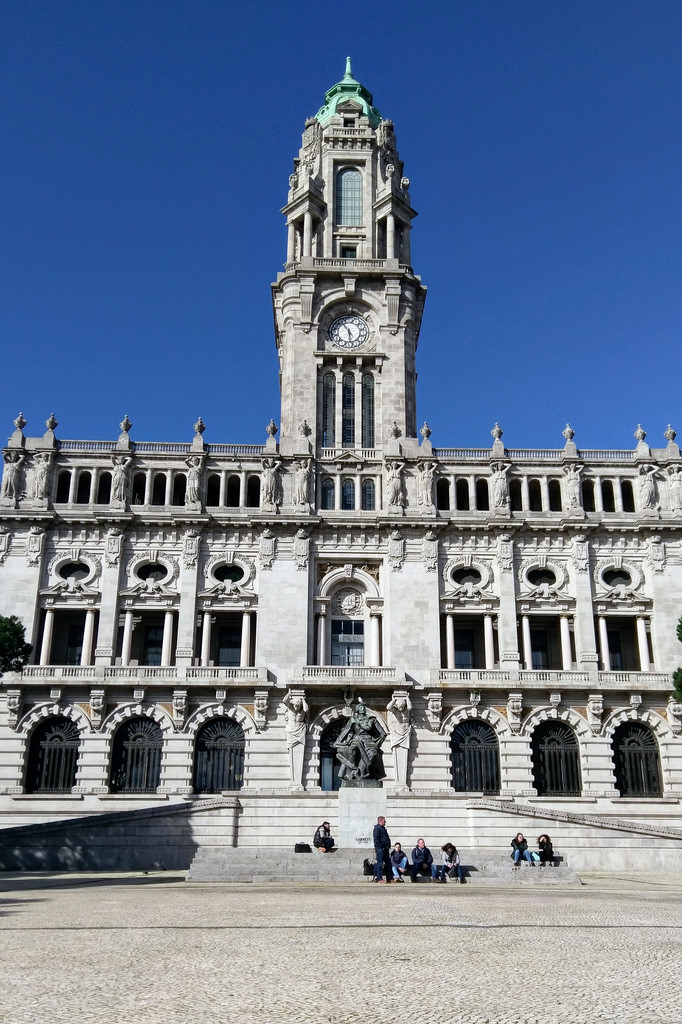camara: (0, 53, 681, 829)
